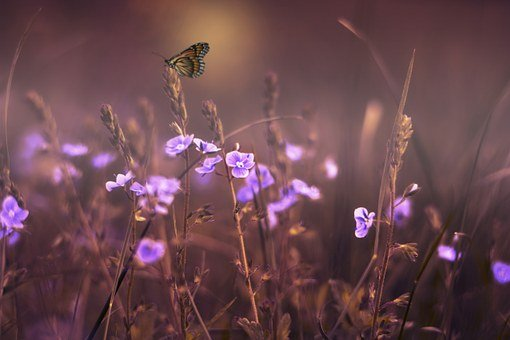butterfly: (152, 37, 213, 84)
flower: (4, 130, 510, 335)
